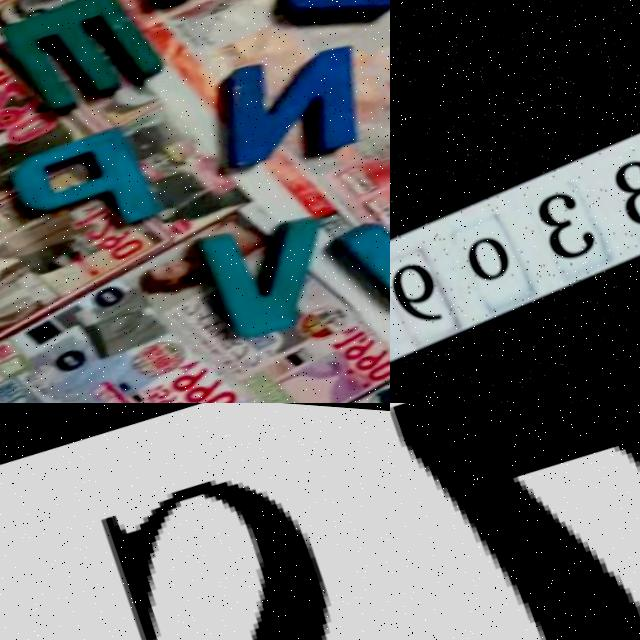0: (448, 197, 541, 305)
3: (517, 158, 621, 278), (595, 124, 640, 242)
7: (390, 403, 640, 640)
9: (390, 231, 471, 347)
B: (250, 0, 390, 41)
J: (327, 171, 390, 330)
M: (0, 0, 168, 123)
N: (197, 21, 382, 179)
P: (6, 115, 159, 255)
S: (55, 426, 390, 640)
V: (184, 189, 355, 353)
